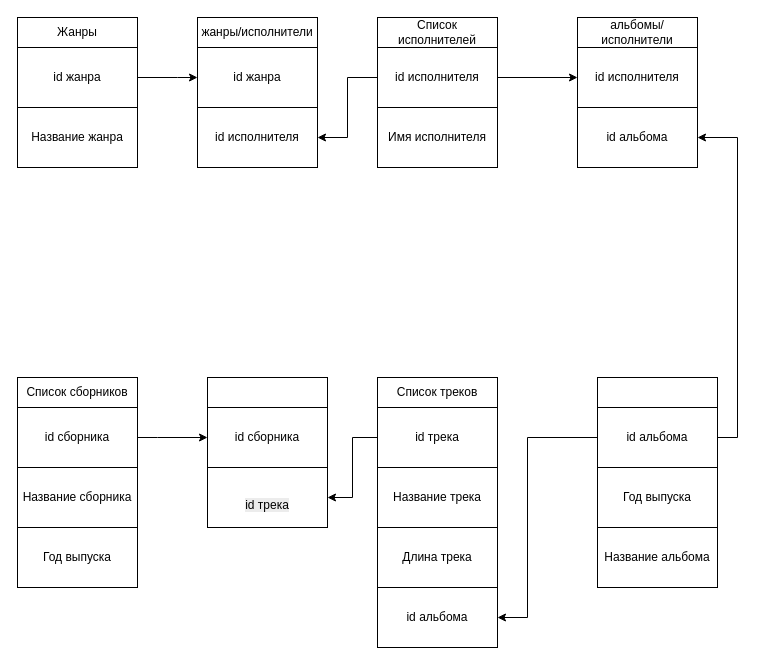
Image size: 763x665. Some labels were removed from this diagram. The shapes that lost their labels are listed below. From the top down, each one's centre as x and y in pixels, then its label:
At (267,392): "Сборники/треки".
At (657,392): "Список альбомов".
